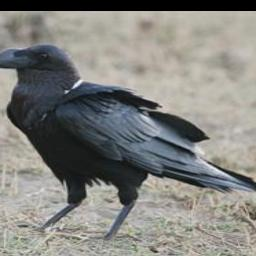Crow: (0, 43, 256, 241)
